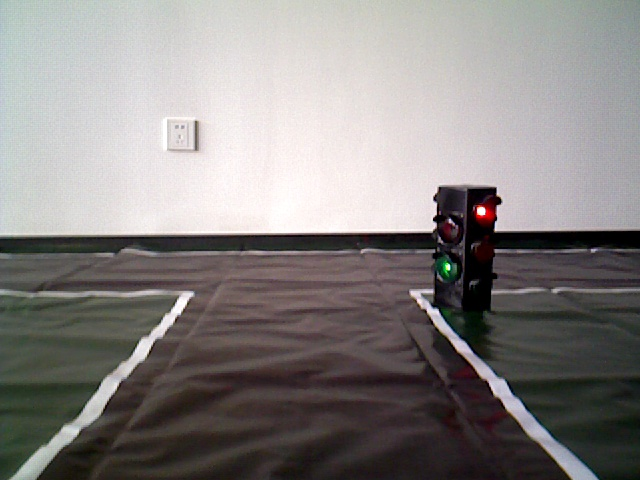red: (434, 198, 497, 309)
